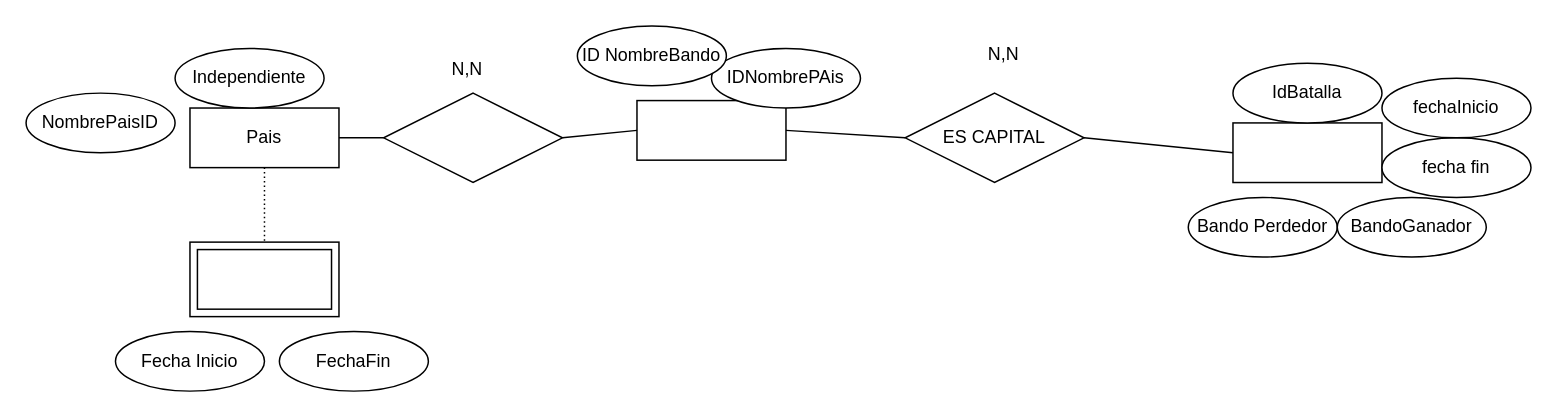
This 1557x417 diagram has some shape labels left out. The centre of each missing label's shape, as x and y in pixels:
"Bando" belongs at pixel 710 129.
"Formar" belongs at pixel 472 137.
"Periodos Indepes" belongs at pixel 263 279.
"PROVINCIA" belongs at pixel 1306 152.
